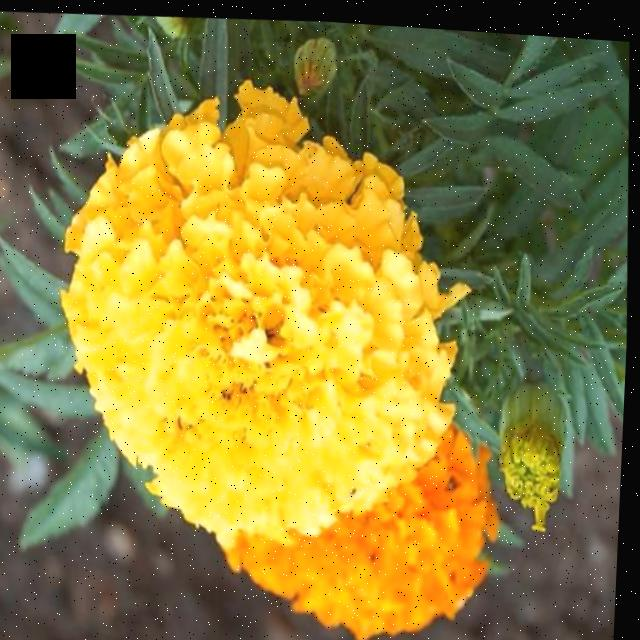marigold: (48, 4, 594, 640)
